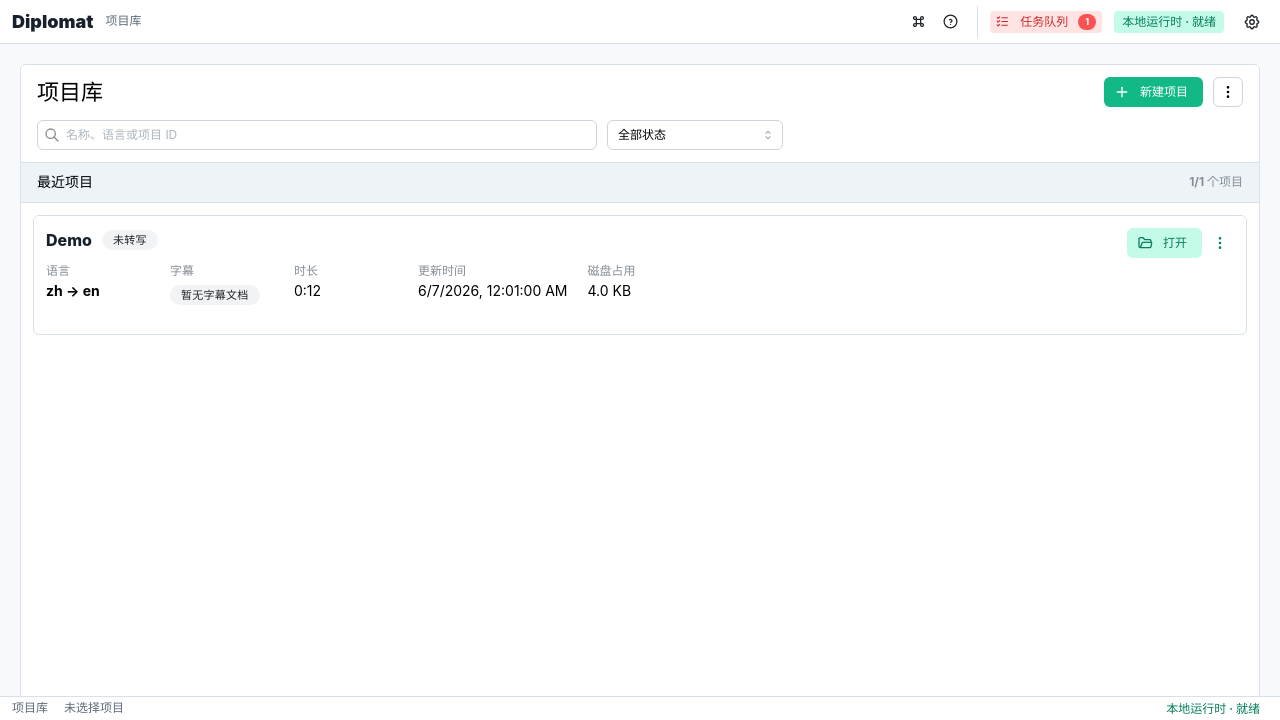
Test case: App › localizes common backend task messages in the global task popover
The width and height of the screenshot is (1280, 720).
Expected: the heading "项目库" is shown, [37, 77, 103, 108]
Step 1. Click the button "任务队列 1" → (1046, 22), box [990, 10, 1102, 32]
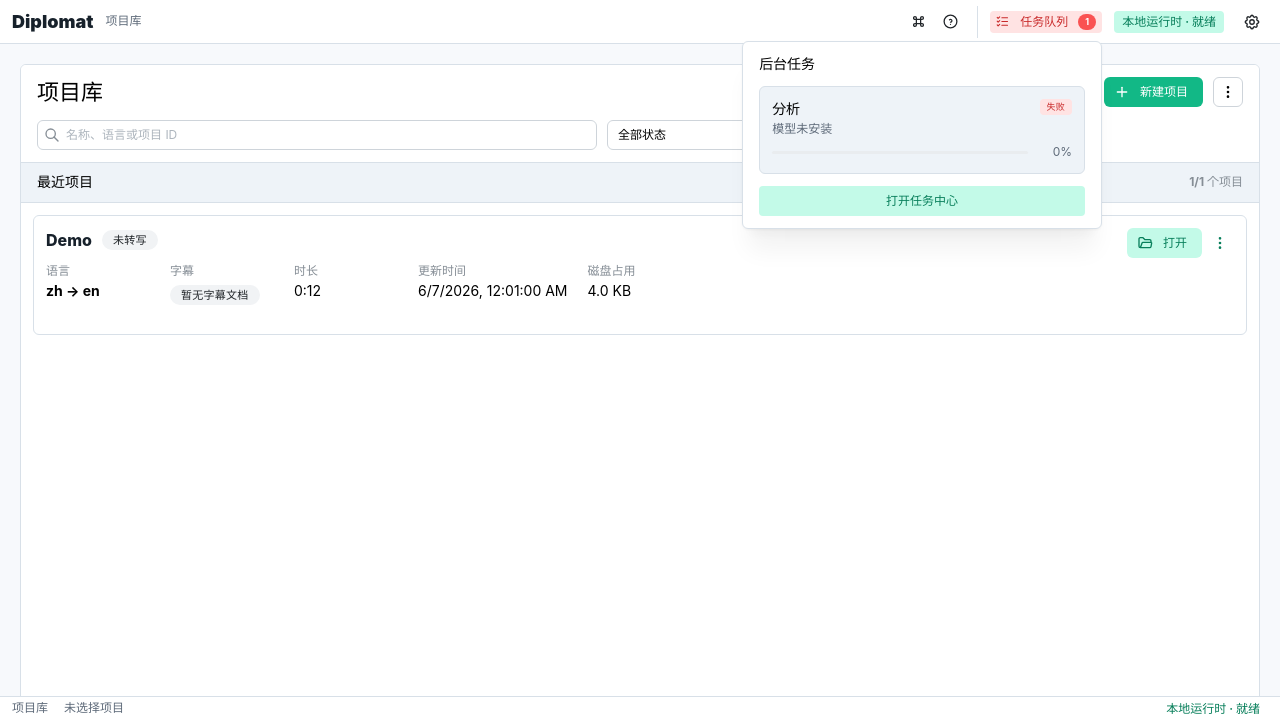
Result: the text "模型未安装" is shown at [772, 121, 832, 138]
